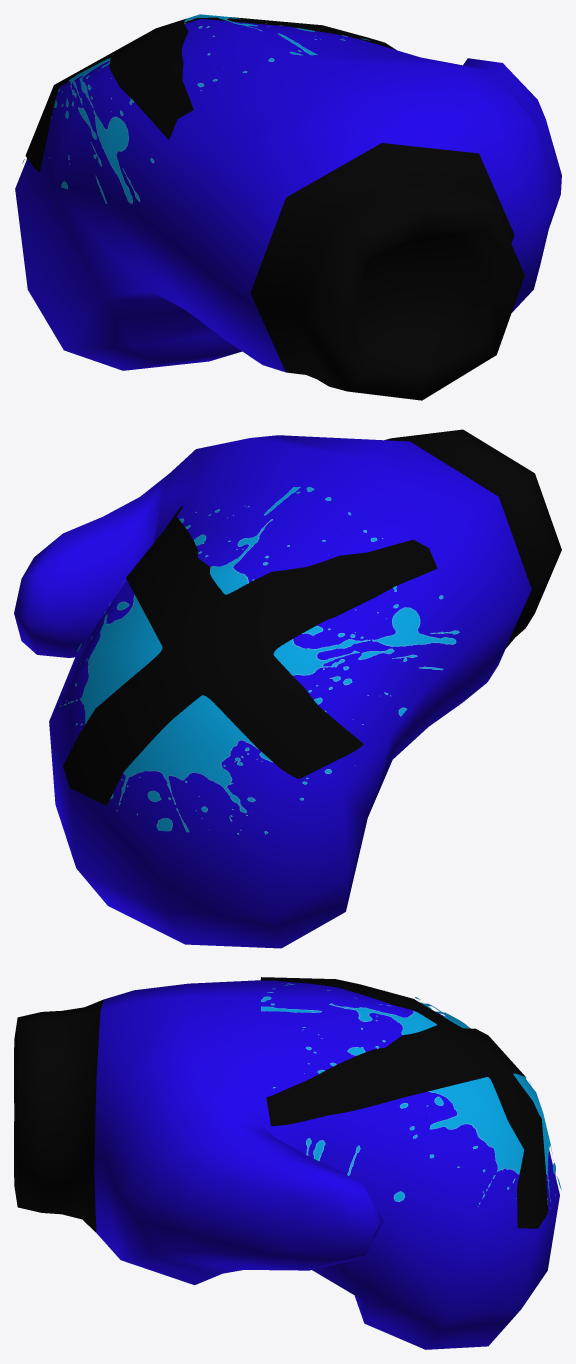
File: Gloves.fbx
The picture shows the model from 3 angles, top to bottom: view 1: azimuth 30°, elevation 25°; view 2: azimuth 150°, elevation 25°; view 3: azimuth 270°, elevation 25°; orthographic projection. The views are drawn at different scales.
Visible parts, largest first — view 1: Glove_1_SM, Glove_2_SM, Glove_3_SM; view 2: Glove_1_SM, Glove_2_SM, Glove_3_SM; view 3: Glove_1_SM, Glove_2_SM, Glove_3_SM.
Part boxes in pixels (bbox=[...]): Glove_1_SM: bbox=[15, 19, 561, 400]; Glove_2_SM: bbox=[25, 17, 396, 172]; Glove_3_SM: bbox=[22, 14, 382, 203]; Glove_1_SM: bbox=[14, 429, 561, 948]; Glove_2_SM: bbox=[63, 506, 437, 805]; Glove_3_SM: bbox=[60, 487, 459, 834]; Glove_1_SM: bbox=[14, 980, 559, 1349]; Glove_2_SM: bbox=[260, 977, 547, 1228]; Glove_3_SM: bbox=[261, 983, 561, 1208].
Bounding box in the file's own units: 0.2203 × 0.1918 × 0.2889.
